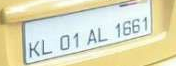0: (59, 32, 72, 52)
1: (113, 21, 122, 39), (72, 32, 81, 48), (141, 16, 149, 33)
6: (130, 18, 141, 35), (122, 19, 132, 37)
A: (86, 27, 98, 45)
K: (27, 39, 40, 58)
L: (41, 37, 53, 56), (97, 27, 109, 43)
